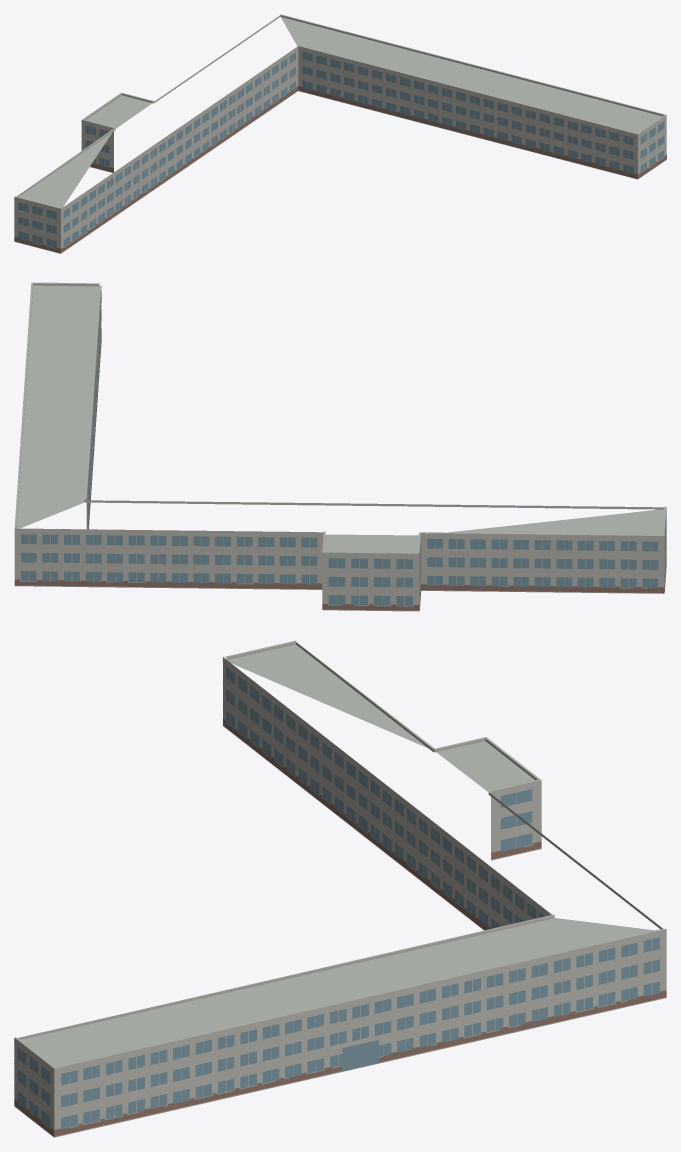
The model's file is public-f6b2f6c4-b26e-44b6-bb28-4b9dd03f1fe1.glb.
3 views of the same model, one above another, from view 1: azimuth 30°, elevation 25°; view 2: azimuth 150°, elevation 25°; view 3: azimuth 270°, elevation 25° (orthographic). The views are drawn at different scales.
Visible parts, largest first — view 1: public-f6b2f6c4-b26e-44b6-bb28-4b9dd03f1fe1; view 2: public-f6b2f6c4-b26e-44b6-bb28-4b9dd03f1fe1; view 3: public-f6b2f6c4-b26e-44b6-bb28-4b9dd03f1fe1.
Part boxes in pixels (x1,y1,x2,y2): public-f6b2f6c4-b26e-44b6-bb28-4b9dd03f1fe1: (14,14,666,253); public-f6b2f6c4-b26e-44b6-bb28-4b9dd03f1fe1: (14,282,666,611); public-f6b2f6c4-b26e-44b6-bb28-4b9dd03f1fe1: (14,640,666,1137).
Bounding box in the file's own units: 122 × 9.15 × 78.47.
